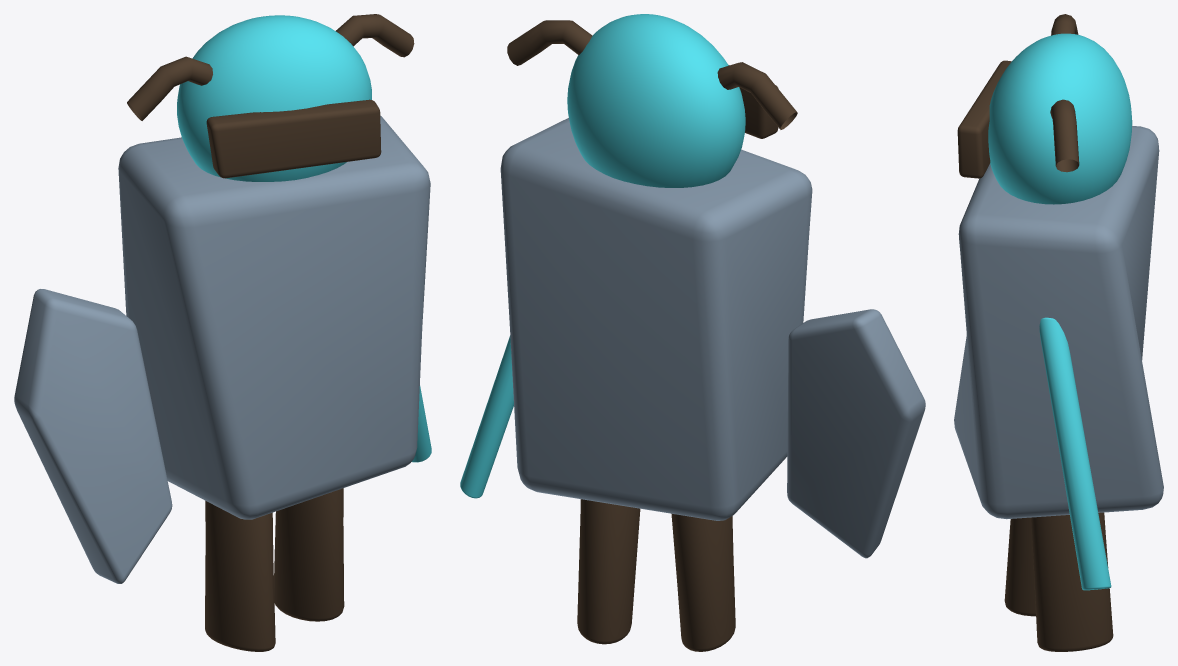
File: humanoid_v8.glb
3 renders of one model, left to right at view 1: azimuth 30°, elevation 25°; view 2: azimuth 150°, elevation 25°; view 3: azimuth 270°, elevation 25°, orthographic. The views are drawn at different scales.
Visible parts, largest first — view 1: KNIGHT_TORSO_PRIMARY, KNIGHT_SHIELD_PRIMARY, KNIGHT_HELM_ACCENT, KNIGHT_VISOR_SECONDARY, KNIGHT_LEG_SECONDARY, KNIGHT_LEG_SECONDARY.001, SWEEP_ANTLER_SECONDARY, SWEEP_ANTLER_SECONDARY.001, KNIGHT_SWORD_ACCENT; view 2: KNIGHT_TORSO_PRIMARY, KNIGHT_SHIELD_PRIMARY, KNIGHT_HELM_ACCENT, KNIGHT_LEG_SECONDARY.001, KNIGHT_LEG_SECONDARY, KNIGHT_SWORD_ACCENT, SWEEP_ANTLER_SECONDARY, SWEEP_ANTLER_SECONDARY.001, KNIGHT_VISOR_SECONDARY; view 3: KNIGHT_TORSO_PRIMARY, KNIGHT_HELM_ACCENT, KNIGHT_LEG_SECONDARY.001, KNIGHT_SWORD_ACCENT, KNIGHT_VISOR_SECONDARY, KNIGHT_LEG_SECONDARY, SWEEP_ANTLER_SECONDARY.001, SWEEP_ANTLER_SECONDARY.
Boxes of the visible parts, bbox=[...] form: KNIGHT_TORSO_PRIMARY: bbox=[118, 115, 430, 519]; KNIGHT_SHIELD_PRIMARY: bbox=[14, 289, 172, 583]; KNIGHT_HELM_ACCENT: bbox=[177, 15, 371, 181]; KNIGHT_VISOR_SECONDARY: bbox=[206, 99, 381, 178]; KNIGHT_LEG_SECONDARY: bbox=[205, 501, 275, 651]; KNIGHT_LEG_SECONDARY.001: bbox=[274, 488, 344, 621]; SWEEP_ANTLER_SECONDARY: bbox=[127, 56, 212, 120]; SWEEP_ANTLER_SECONDARY.001: bbox=[336, 14, 414, 57]; KNIGHT_SWORD_ACCENT: bbox=[412, 386, 431, 462]; KNIGHT_TORSO_PRIMARY: bbox=[500, 118, 812, 520]; KNIGHT_SHIELD_PRIMARY: bbox=[787, 309, 925, 558]; KNIGHT_HELM_ACCENT: bbox=[567, 14, 745, 187]; KNIGHT_LEG_SECONDARY.001: bbox=[577, 499, 640, 644]; KNIGHT_LEG_SECONDARY: bbox=[671, 513, 735, 651]; KNIGHT_SWORD_ACCENT: bbox=[460, 335, 513, 498]; SWEEP_ANTLER_SECONDARY: bbox=[717, 62, 797, 129]; SWEEP_ANTLER_SECONDARY.001: bbox=[507, 20, 592, 65]; KNIGHT_VISOR_SECONDARY: bbox=[728, 65, 778, 138]; KNIGHT_TORSO_PRIMARY: bbox=[954, 125, 1163, 519]; KNIGHT_HELM_ACCENT: bbox=[988, 33, 1132, 204]; KNIGHT_LEG_SECONDARY.001: bbox=[1031, 512, 1113, 651]; KNIGHT_SWORD_ACCENT: bbox=[1039, 317, 1111, 590]; KNIGHT_VISOR_SECONDARY: bbox=[957, 60, 1011, 178]; KNIGHT_LEG_SECONDARY: bbox=[1004, 517, 1035, 616]; SWEEP_ANTLER_SECONDARY.001: bbox=[1050, 99, 1079, 172]; SWEEP_ANTLER_SECONDARY: bbox=[1051, 14, 1078, 35].
Bounding box in the file's own units: 2.21 × 2.99 × 0.9757.
